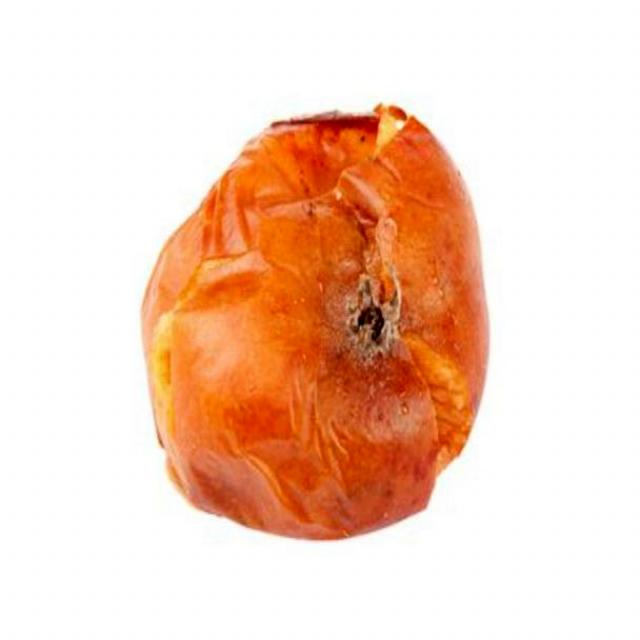ROT: (119, 90, 541, 563)
